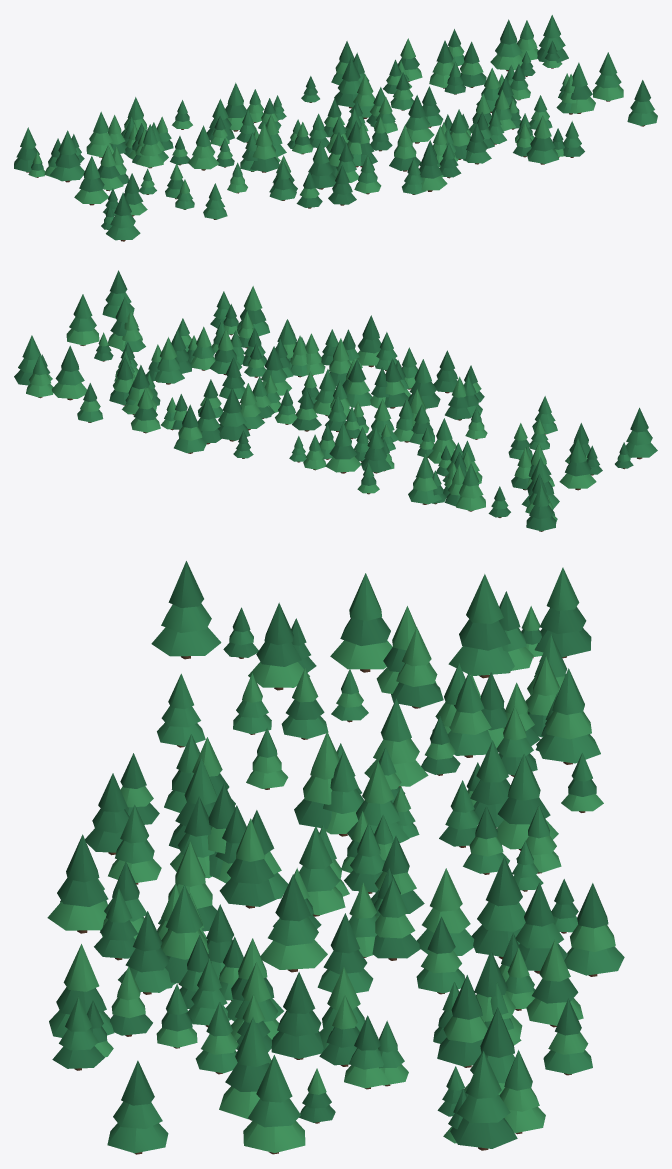
The model's file is forest.glb.
3 views of the same model, one above another, from view 1: azimuth 30°, elevation 25°; view 2: azimuth 150°, elevation 25°; view 3: azimuth 270°, elevation 25° (orthographic). The views are drawn at different scales.
Visible parts, largest first — view 1: forest; view 2: forest; view 3: forest.
Part boxes in pixels (x1,y1,x2,y2): forest: (14, 15, 657, 241); forest: (14, 270, 657, 531); forest: (47, 561, 624, 1154).
Bounding box in the file's own units: 62.08 × 5.66 × 28.87.
